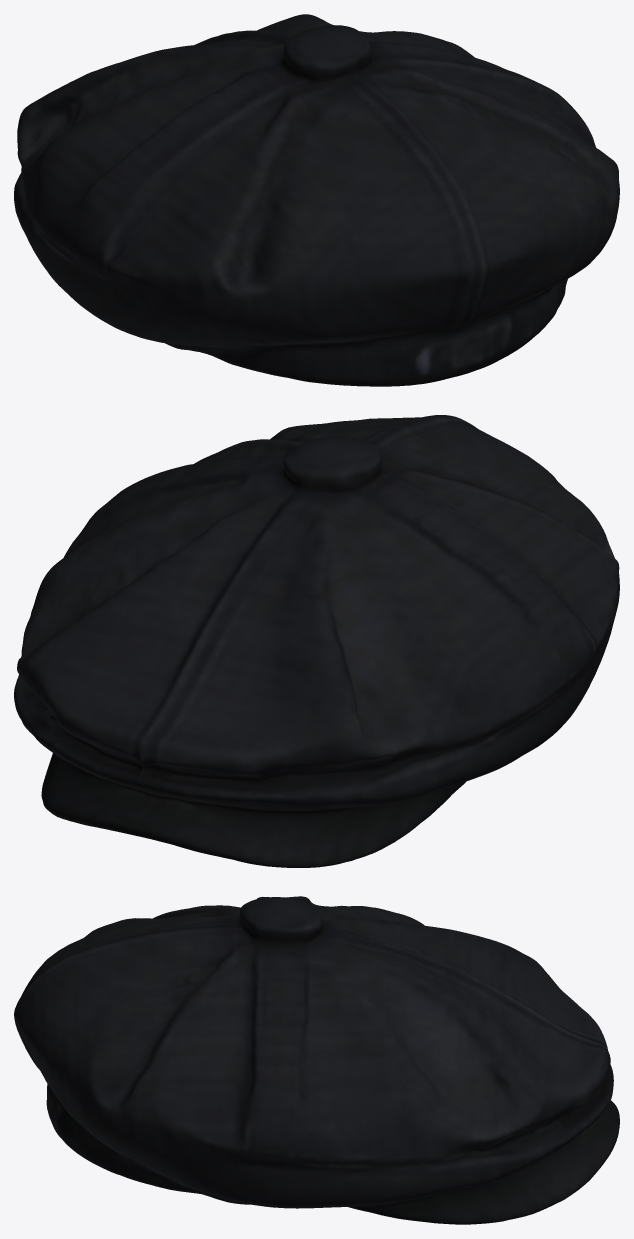
File: a456ae8901ce_peaky_blinders_cap_.fbx
3 renders of one model, top to bottom at view 1: azimuth 30°, elevation 25°; view 2: azimuth 150°, elevation 25°; view 3: azimuth 270°, elevation 25°, orthographic. The views are drawn at different scales.
Parts seen in each view (by area): view 1: high_poly; view 2: high_poly; view 3: high_poly.
Part boxes in pixels (x1,y1,x2,y2): high_poly: (14, 14, 619, 386); high_poly: (14, 415, 619, 867); high_poly: (14, 896, 619, 1224).
Size of the model in its own units: 82.72 by 45.28 by 100.
